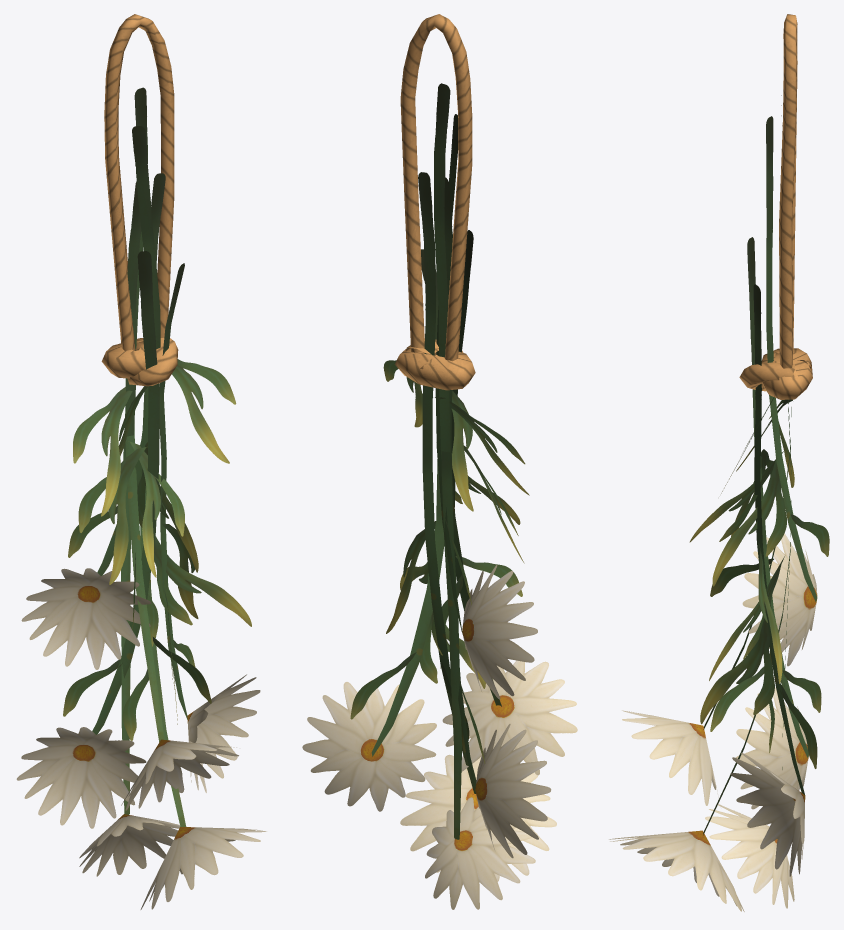
Rendered from SM_Potion_Props_Herb_Broom_Wall_05.fbx.
3 views of the same model, side by side, from view 1: azimuth 30°, elevation 25°; view 2: azimuth 150°, elevation 25°; view 3: azimuth 270°, elevation 25° (orthographic). The views are drawn at different scales.
Parts seen in each view (by area): view 1: SM_Potion_Props_Herb_Broom_Wall_05_LOD0; view 2: SM_Potion_Props_Herb_Broom_Wall_05_LOD0; view 3: SM_Potion_Props_Herb_Broom_Wall_05_LOD0.
Part boxes in pixels (x1,y1,x2,y2): SM_Potion_Props_Herb_Broom_Wall_05_LOD0: [16, 14, 266, 909]; SM_Potion_Props_Herb_Broom_Wall_05_LOD0: [302, 14, 577, 909]; SM_Potion_Props_Herb_Broom_Wall_05_LOD0: [609, 14, 829, 911].
Size of what is drawn, in the model's own units: 24.81 by 84.63 by 19.08.
